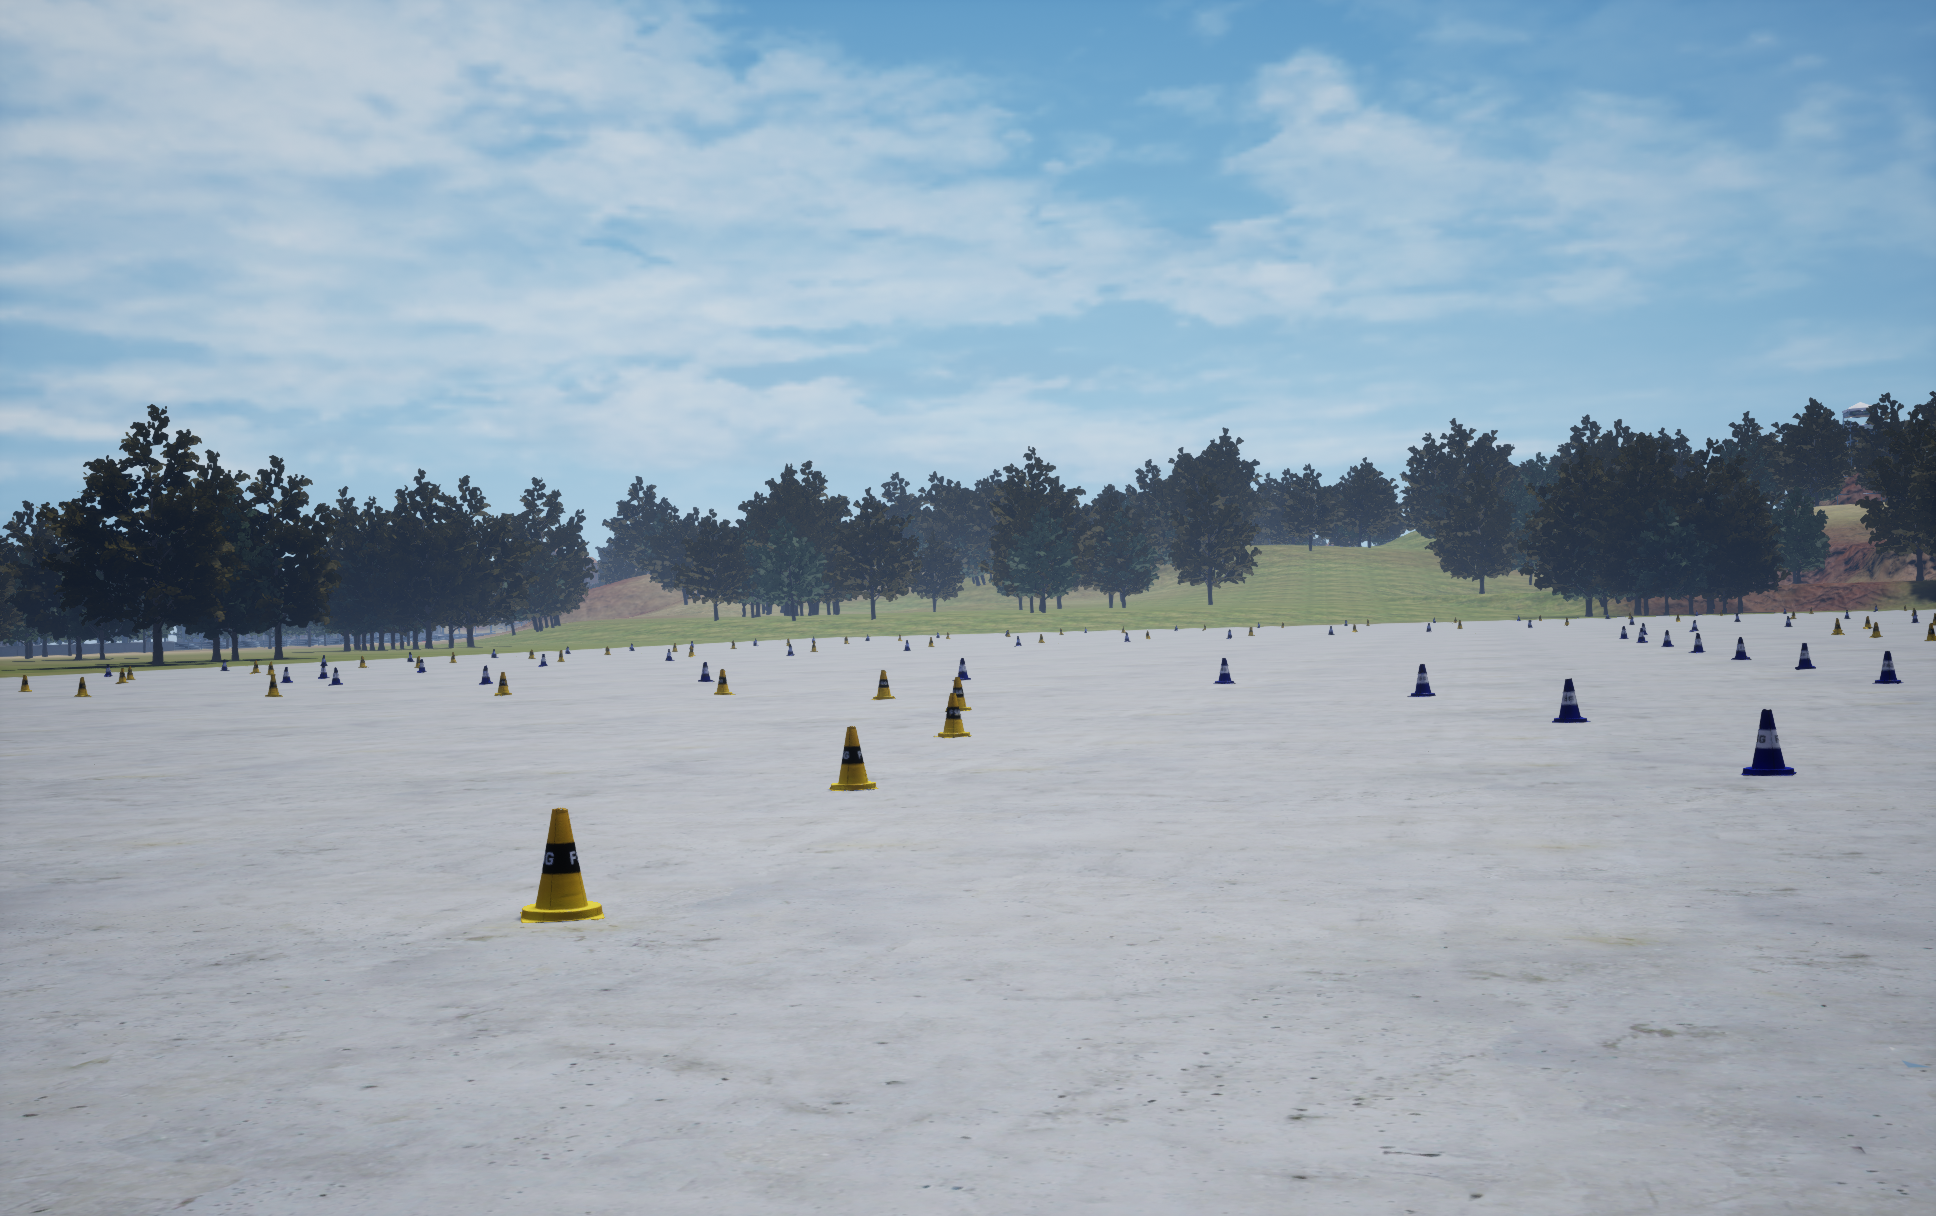blue: (520, 808, 604, 922), (829, 726, 878, 790), (933, 693, 971, 737), (946, 677, 971, 712), (871, 670, 895, 699), (714, 670, 735, 693), (495, 672, 511, 695), (265, 675, 282, 696), (74, 677, 91, 696)
yellow: (1741, 709, 1796, 775), (1552, 678, 1590, 721), (1872, 651, 1902, 684), (1406, 664, 1434, 696), (1213, 658, 1236, 684), (1795, 643, 1816, 670), (1731, 637, 1751, 658), (953, 658, 969, 679), (698, 663, 714, 681), (1688, 633, 1705, 651), (479, 665, 492, 684)
